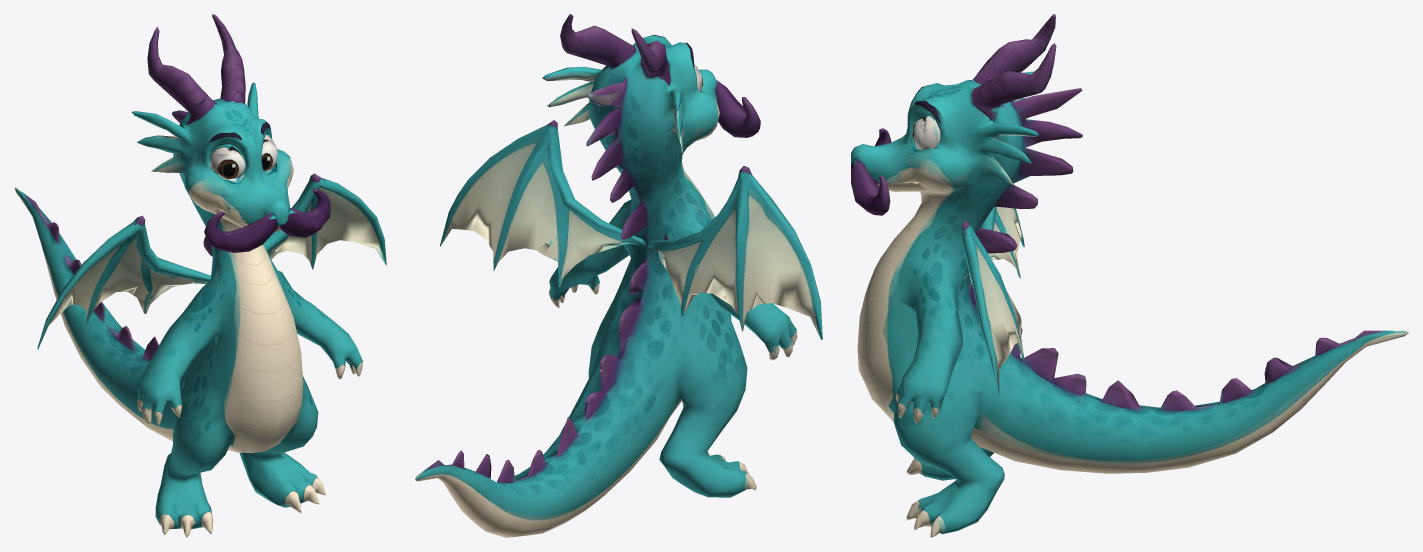
The model's file is dragon-one.glb.
3 renders of one model, left to right at view 1: azimuth 30°, elevation 25°; view 2: azimuth 150°, elevation 25°; view 3: azimuth 270°, elevation 25°, orthographic. The views are drawn at different scales.
Parts seen in each view (by area): view 1: mesh_node; view 2: mesh_node; view 3: mesh_node.
Boxes of the visible parts, box(x1,y1,x2,y2) form: mesh_node: box(14, 14, 386, 537); mesh_node: box(415, 14, 822, 537); mesh_node: box(851, 14, 1408, 537).
Bounding box in the file's own units: 0.75 × 0.9316 × 1.
Materials: 1 (1 with a texture image).
